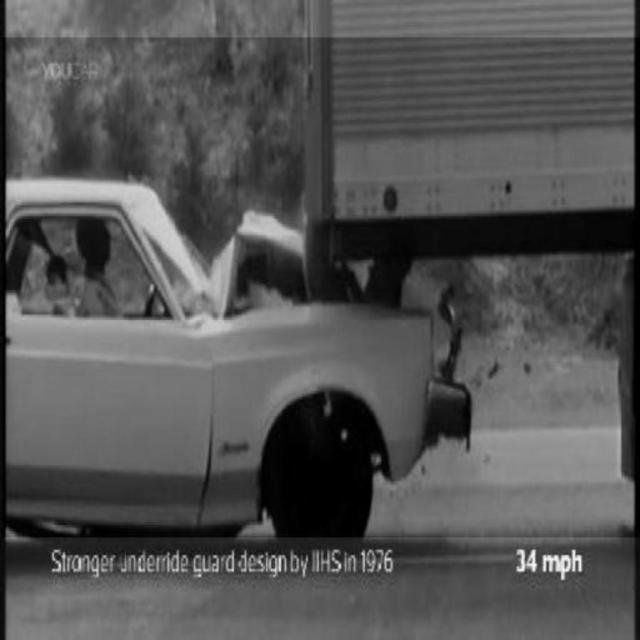accident: (3, 38, 640, 538)
